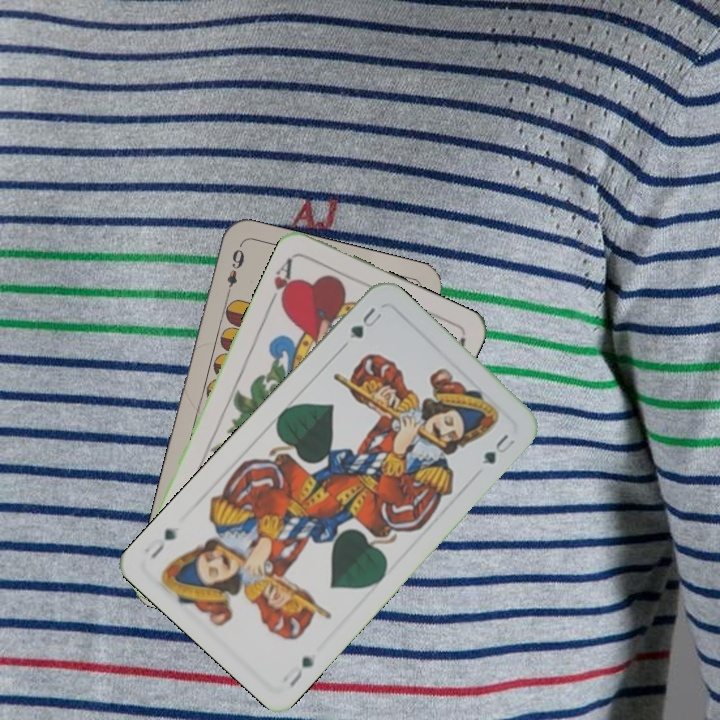E9: (222, 242, 247, 300)
GU: (345, 303, 385, 342), (283, 652, 317, 690)
HA: (264, 253, 298, 309)
